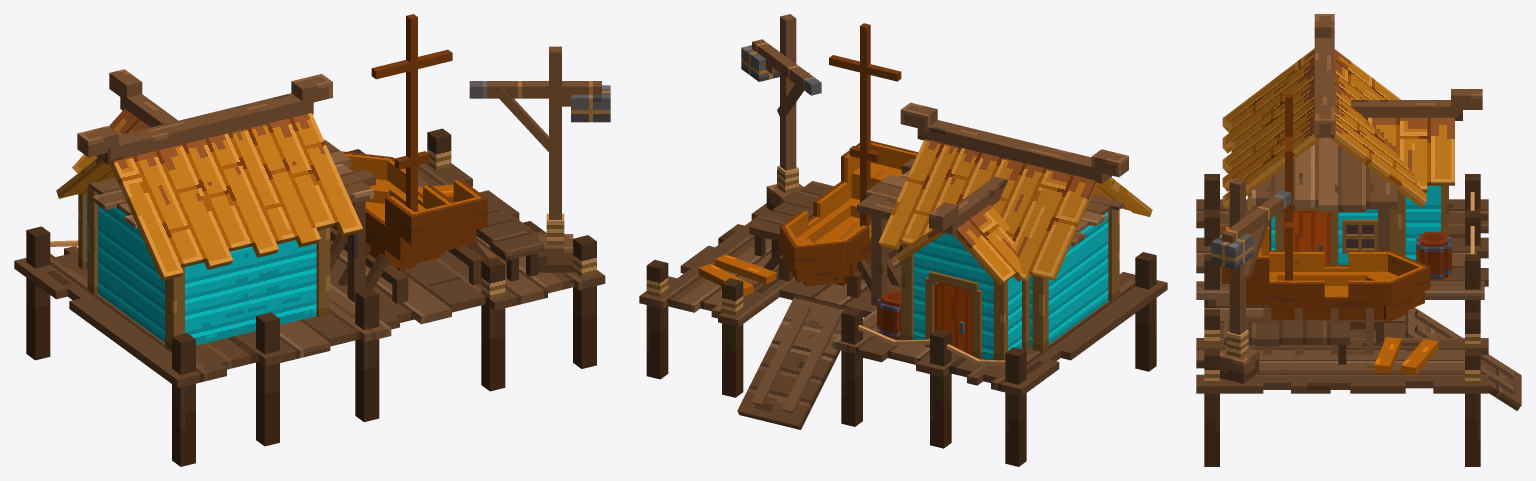
The model's file is building_4x7_shipwright_02.gltf.
The picture shows the model from 3 angles, left to right: view 1: azimuth 30°, elevation 25°; view 2: azimuth 150°, elevation 25°; view 3: azimuth 270°, elevation 25°; orthographic projection. The views are drawn at different scales.
Parts seen in each view (by area): view 1: shipwright-Local, Roof02-Local, House-Local, ship_hull-Local, Roof-Local, Tower02-Local, k12-Local, Roof7-Local, Tower01-Local, Boat-Local, ship_bow-Local, Roof01-Local (+4 smaller); view 2: shipwright-Local, Roof01-Local, House02-Local, House-Local, shipwright02-Local, ship_hull-Local, Roof-Local, Tower02-Local, Roof04-Local, k12-Local, ship_bow-Local, Roof7-Local (+7 smaller); view 3: shipwright-Local, House-Local, ship_hull-Local, Roof02-Local, Roof01-Local, Tower02-Local, Roof03-Local, Roof-Local, Roof7-Local, shipwright02-Local, ship_bow-Local, House02-Local (+8 smaller).
Part boxes in pixels (x1,y1,x2,y2): shipwright-Local: (14, 128, 605, 466); Roof02-Local: (110, 113, 362, 280); House-Local: (87, 140, 375, 351); ship_hull-Local: (332, 157, 487, 270); Roof-Local: (77, 74, 332, 164); Tower02-Local: (469, 46, 610, 219); k12-Local: (371, 14, 452, 211); Roof7-Local: (109, 69, 177, 127); Tower01-Local: (538, 213, 573, 272); Boat-Local: (330, 227, 484, 303); ship_bow-Local: (341, 151, 392, 203); Roof01-Local: (56, 158, 115, 198); shipwright-Local: (639, 170, 1167, 466); Roof01-Local: (878, 139, 1097, 281); House02-Local: (901, 233, 1029, 360); House-Local: (857, 158, 1123, 351); shipwright02-Local: (737, 295, 847, 429); ship_hull-Local: (780, 141, 918, 285); Roof-Local: (900, 102, 1128, 183); Tower02-Local: (741, 14, 821, 170); Roof04-Local: (953, 204, 1023, 285); k12-Local: (829, 23, 901, 226); ship_bow-Local: (780, 225, 850, 286); Roof7-Local: (929, 176, 1007, 234); shipwright-Local: (1196, 174, 1488, 466); House-Local: (1247, 137, 1401, 264); ship_hull-Local: (1222, 225, 1391, 319); Roof02-Local: (1222, 48, 1322, 209); Roof01-Local: (1329, 49, 1426, 207); Tower02-Local: (1211, 178, 1291, 334); Roof03-Local: (1368, 117, 1454, 192); Roof-Local: (1314, 14, 1334, 137); Roof7-Local: (1351, 89, 1482, 120); shipwright02-Local: (1405, 307, 1521, 410); ship_bow-Local: (1366, 250, 1430, 323); House02-Local: (1401, 184, 1448, 260).
Size of the model in its own units: 125 by 87 by 82.4.
26 materials, 26 textured.
